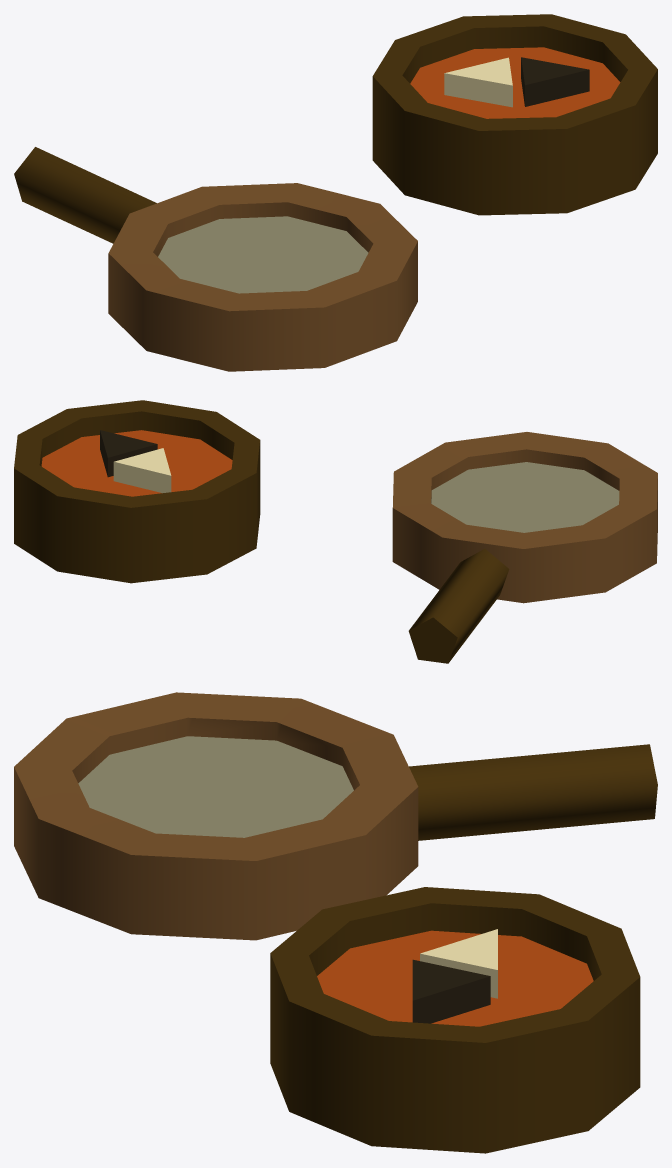
Rendered from compass_and_magnifying_glass.glb.
3 renders of one model, top to bottom at view 1: azimuth 30°, elevation 25°; view 2: azimuth 150°, elevation 25°; view 3: azimuth 270°, elevation 25°, orthographic. The views are drawn at different scales.
Visible parts, largest first — view 1: compass_and_magnifying_glass; view 2: compass_and_magnifying_glass; view 3: compass_and_magnifying_glass.
Part boxes in pixels (x1,y1,x2,y2): compass_and_magnifying_glass: (14, 14, 657, 371); compass_and_magnifying_glass: (14, 400, 657, 663); compass_and_magnifying_glass: (14, 692, 657, 1153).
Bounding box in the file's own units: 1.3 × 0.1777 × 0.9285.
2 materials, 2 textured.
